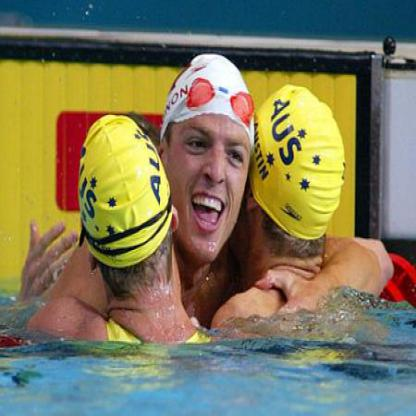face: (169, 60, 256, 267)
